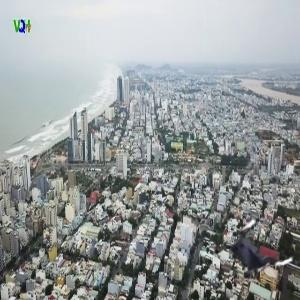drone: (216, 217, 291, 292)
